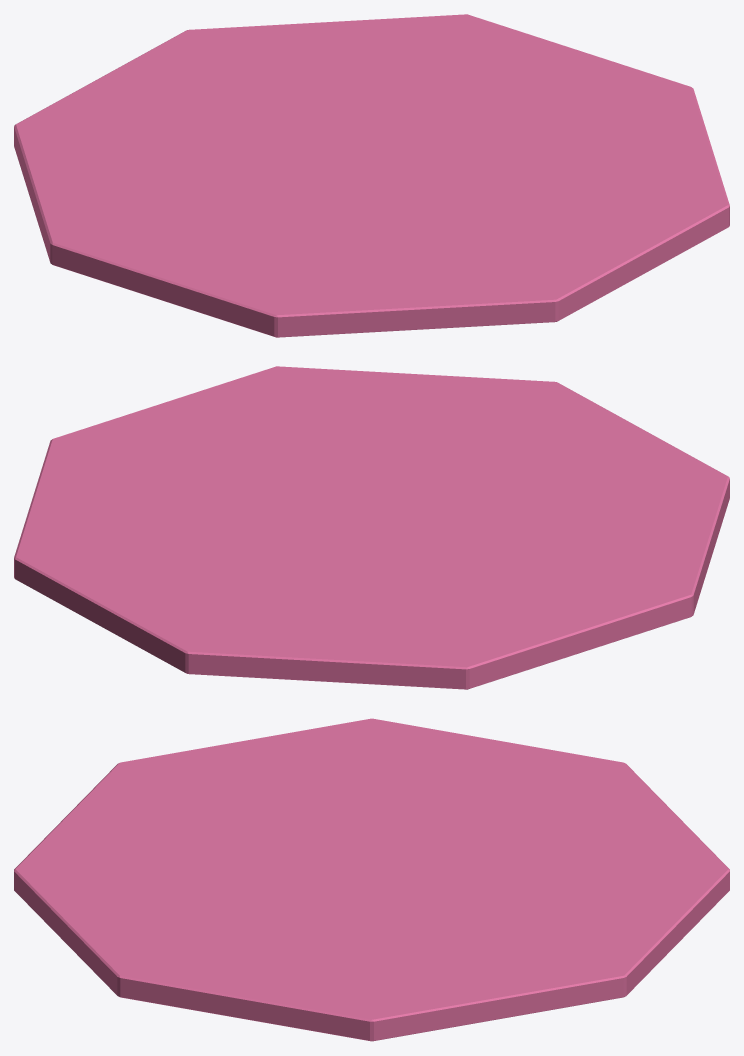
The model's file is Carpet.fbx.
The picture shows the model from 3 angles, top to bottom: view 1: azimuth 30°, elevation 25°; view 2: azimuth 150°, elevation 25°; view 3: azimuth 270°, elevation 25°; orthographic projection. The views are drawn at different scales.
Visible parts, largest first — view 1: Carpet; view 2: Carpet; view 3: Carpet.
Boxes of the visible parts, x1,y1,x2,y2 form: Carpet: [14, 14, 729, 337]; Carpet: [14, 366, 729, 689]; Carpet: [14, 718, 729, 1041].
Size of the model in its own units: 1.5 by 0.05 by 1.5.
